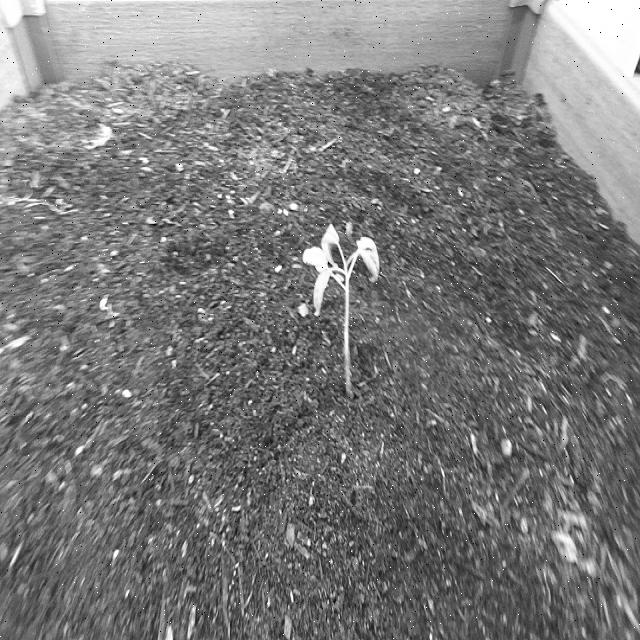Healthy: (301, 220, 382, 399)
